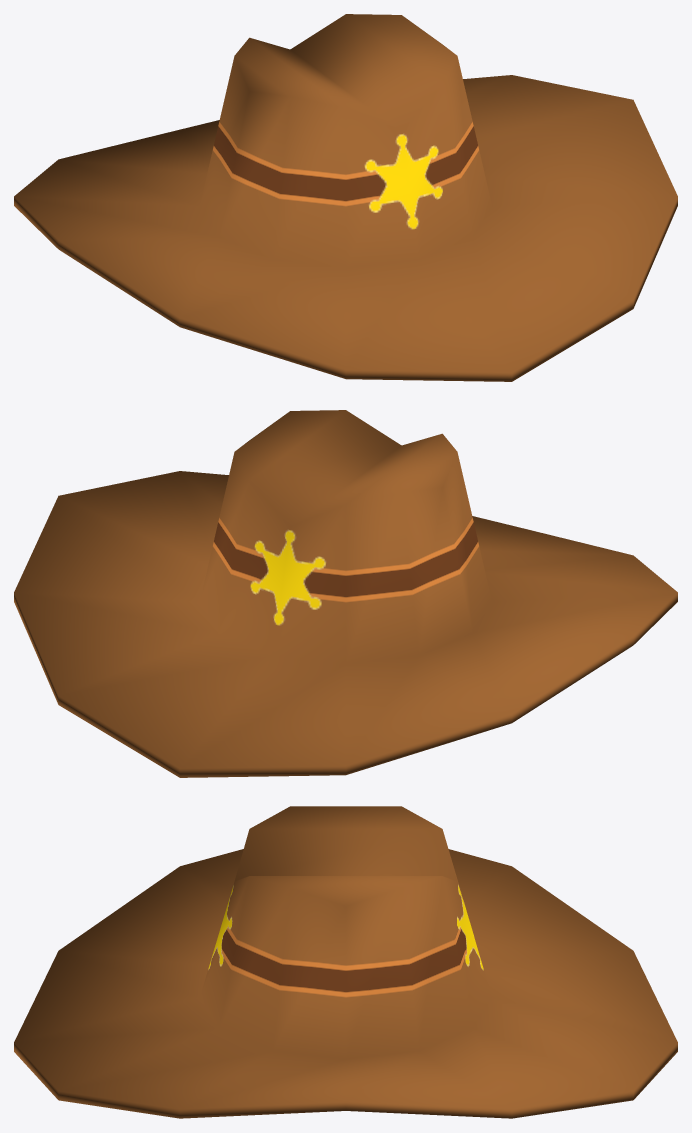
Rendered from amogus-hat-sheriff.fbx.
3 renders of one model, top to bottom at view 1: azimuth 30°, elevation 25°; view 2: azimuth 150°, elevation 25°; view 3: azimuth 270°, elevation 25°, orthographic.
Visible parts, largest first — view 1: SherrifHat; view 2: SherrifHat; view 3: SherrifHat.
Boxes of the visible parts, left/top/right/bottom form: SherrifHat: left=14, top=14, right=677, bottom=381; SherrifHat: left=14, top=410, right=677, bottom=777; SherrifHat: left=14, top=806, right=677, bottom=1118.
Bounding box in the file's own units: 154 × 154 × 52.51.
